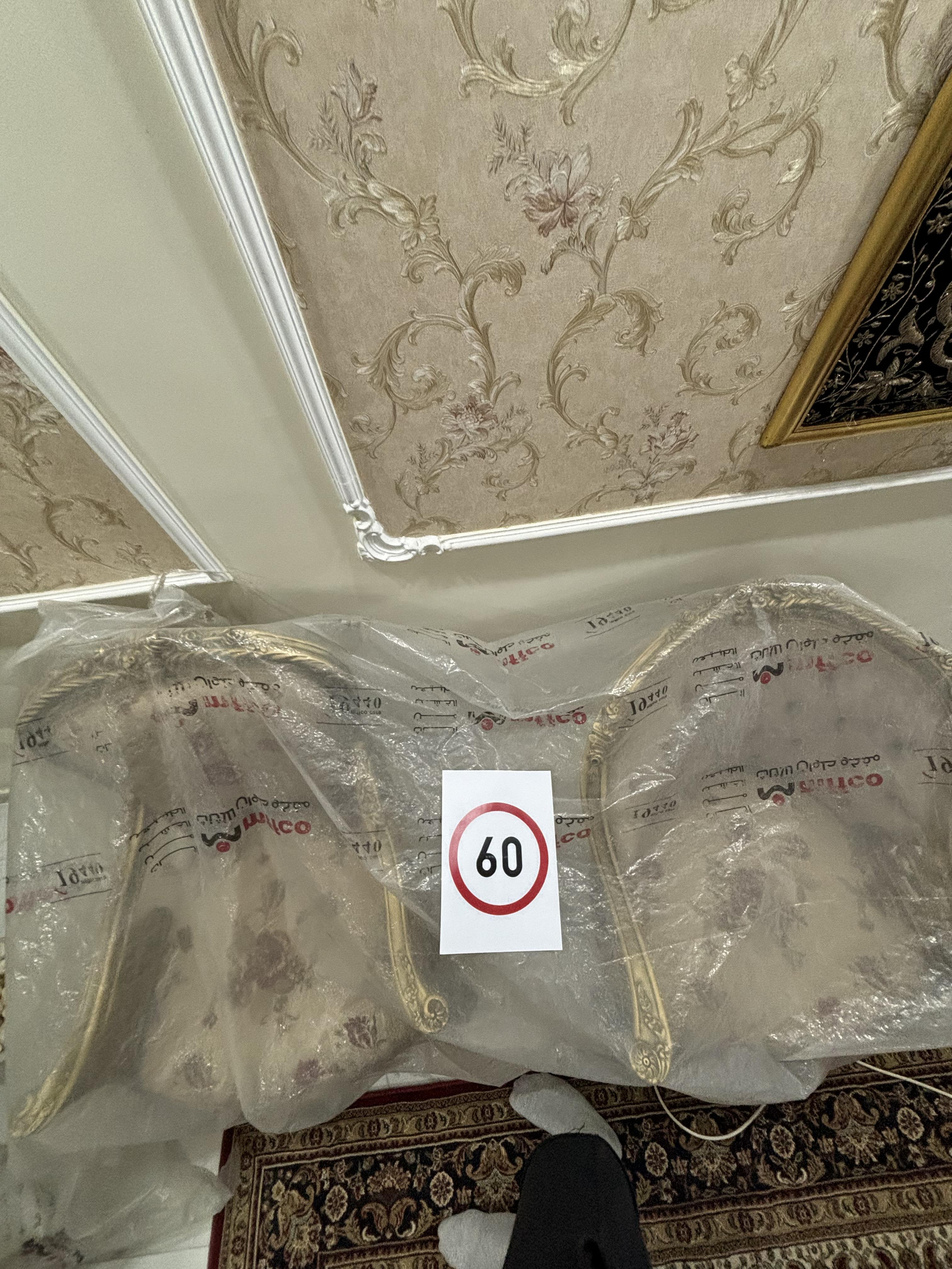60-Speed: (449, 800, 551, 918)
